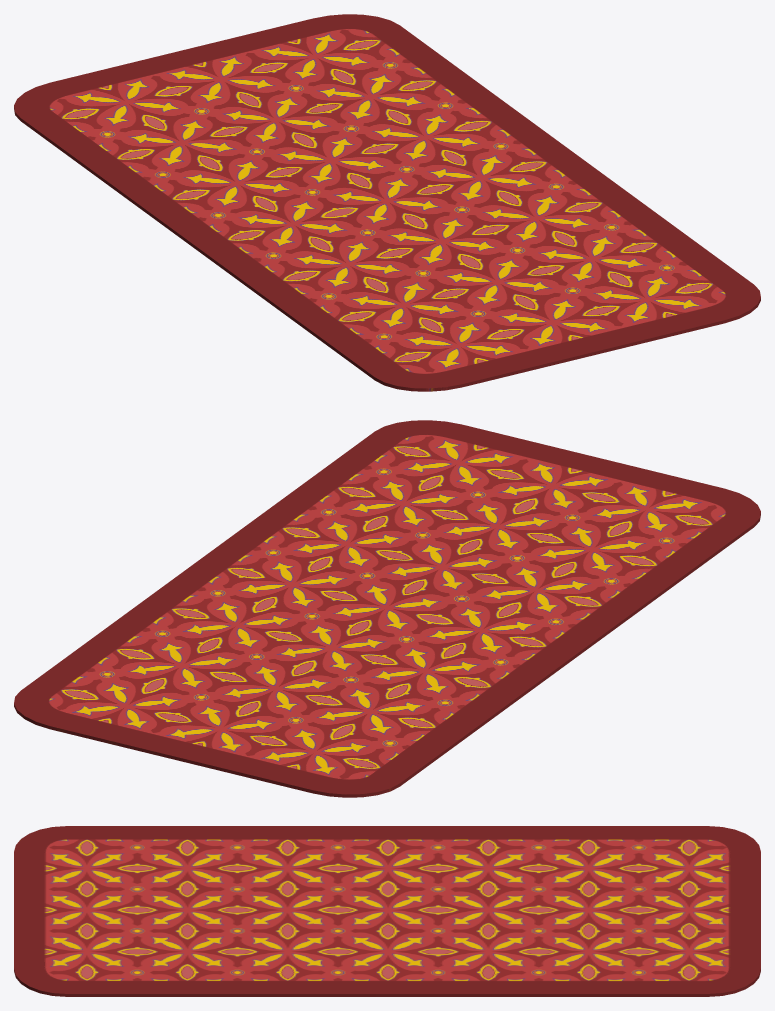
The model's file is Carpet4.glb.
The picture shows the model from 3 angles, top to bottom: view 1: azimuth 30°, elevation 25°; view 2: azimuth 150°, elevation 25°; view 3: azimuth 270°, elevation 25°; orthographic projection. The views are drawn at different scales.
Visible parts, largest first — view 1: Carpet; view 2: Carpet; view 3: Carpet.
Part boxes in pixels (<box>): Carpet: <box>14,14,760,391</box>; Carpet: <box>14,420,760,797</box>; Carpet: <box>14,826,760,996</box>.
Size of the model in its own units: 2.55 by 0.021 by 4.8.
1 material, 1 textured.
